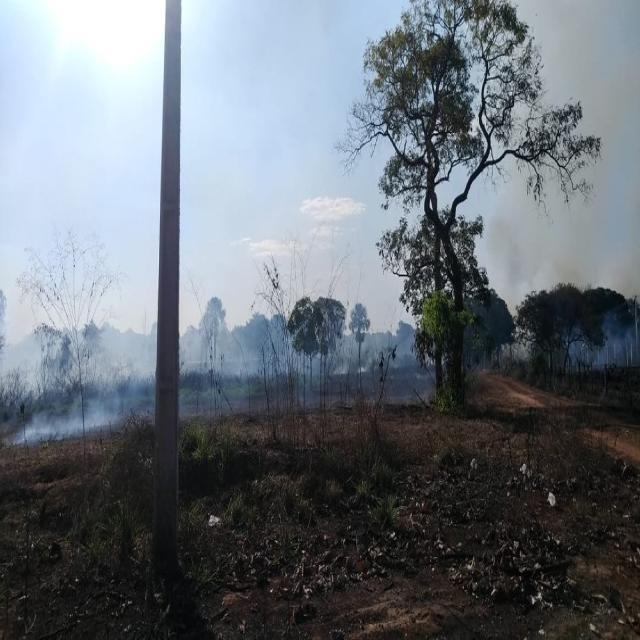Smoke: (21, 352, 127, 438), (567, 314, 640, 379)
